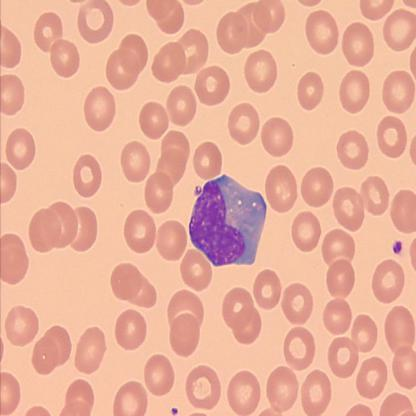Atypical lymphocyte: (189, 174, 266, 264)
